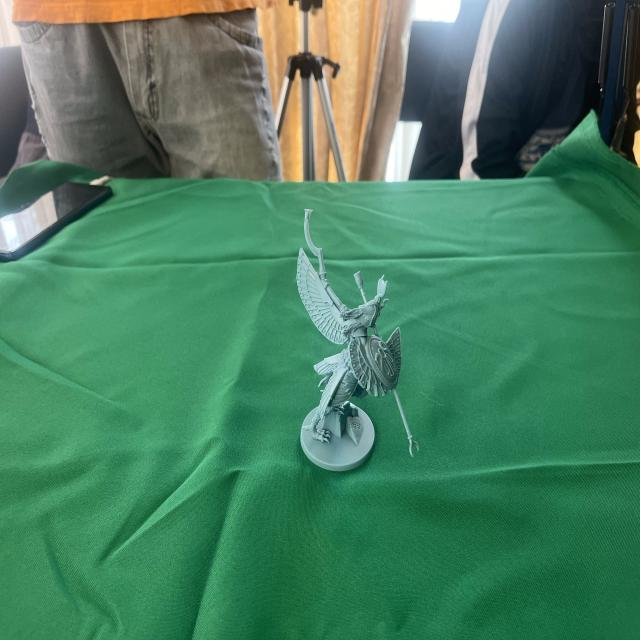isis: (287, 201, 425, 495)
